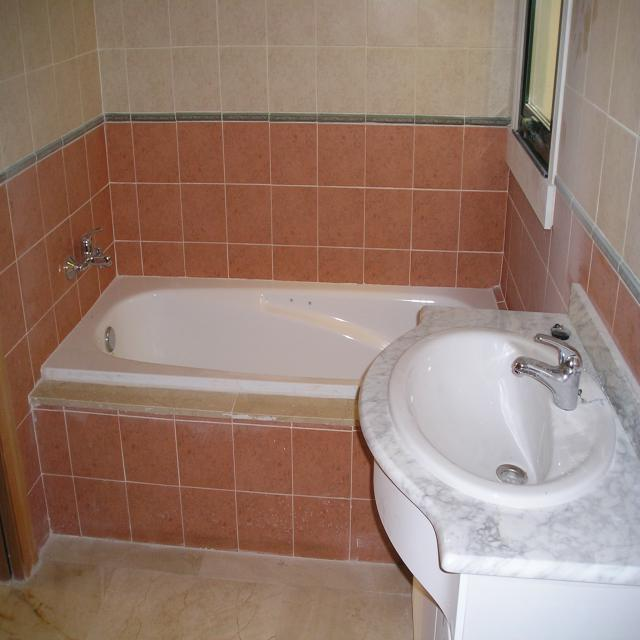bathtub: (41, 275, 498, 403)
sink basin: (360, 306, 640, 638)
